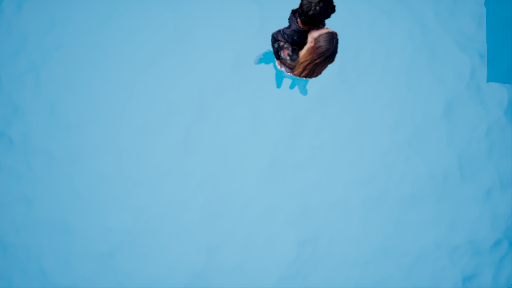person: (263, 4, 340, 94)
